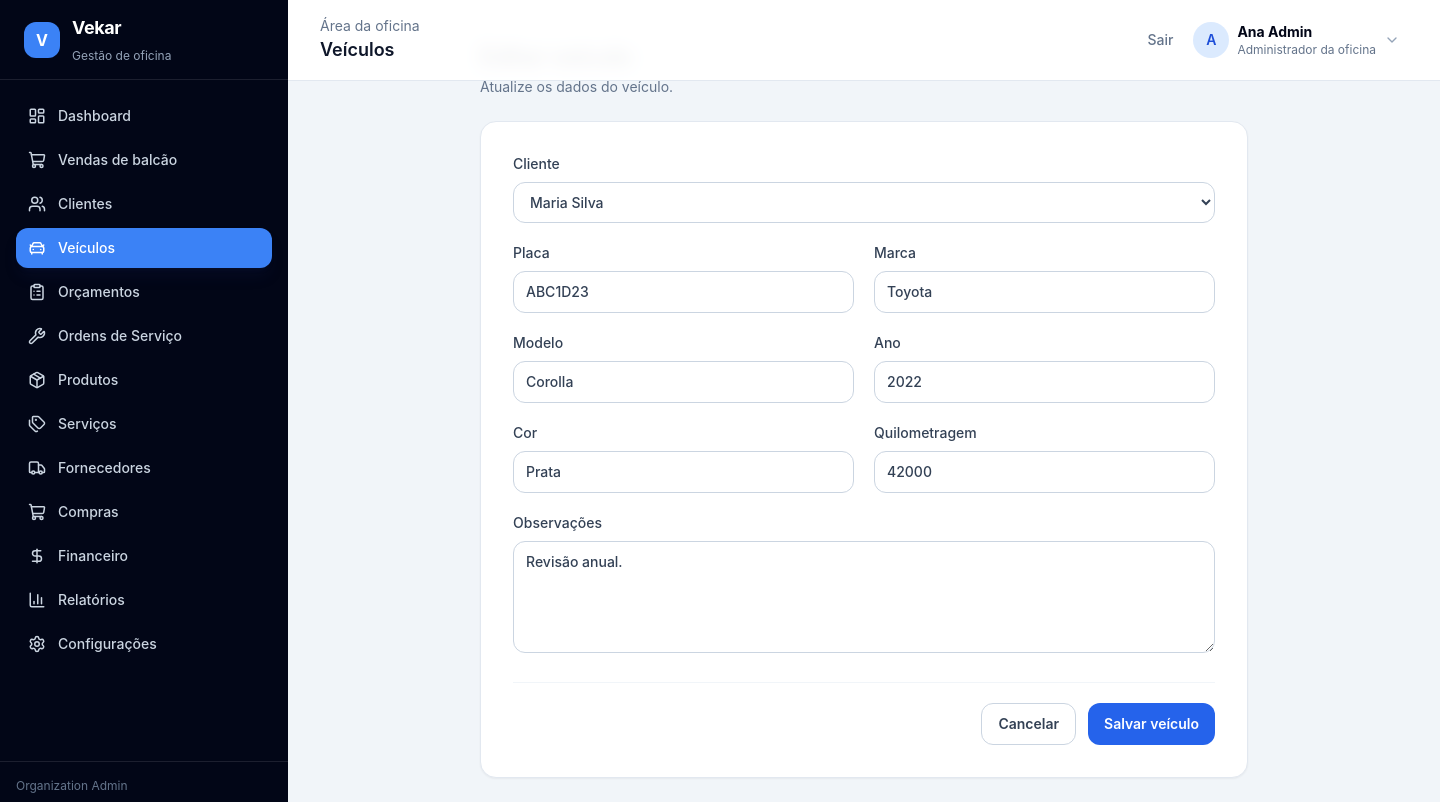
Test case: Vehicle management through the routed application › does not send an update when editing without changes
This screenshot has width=1440, height=802.
(page scrolled)
Click the button "Salvar veículo" at (1152, 724), box [1088, 703, 1215, 745]
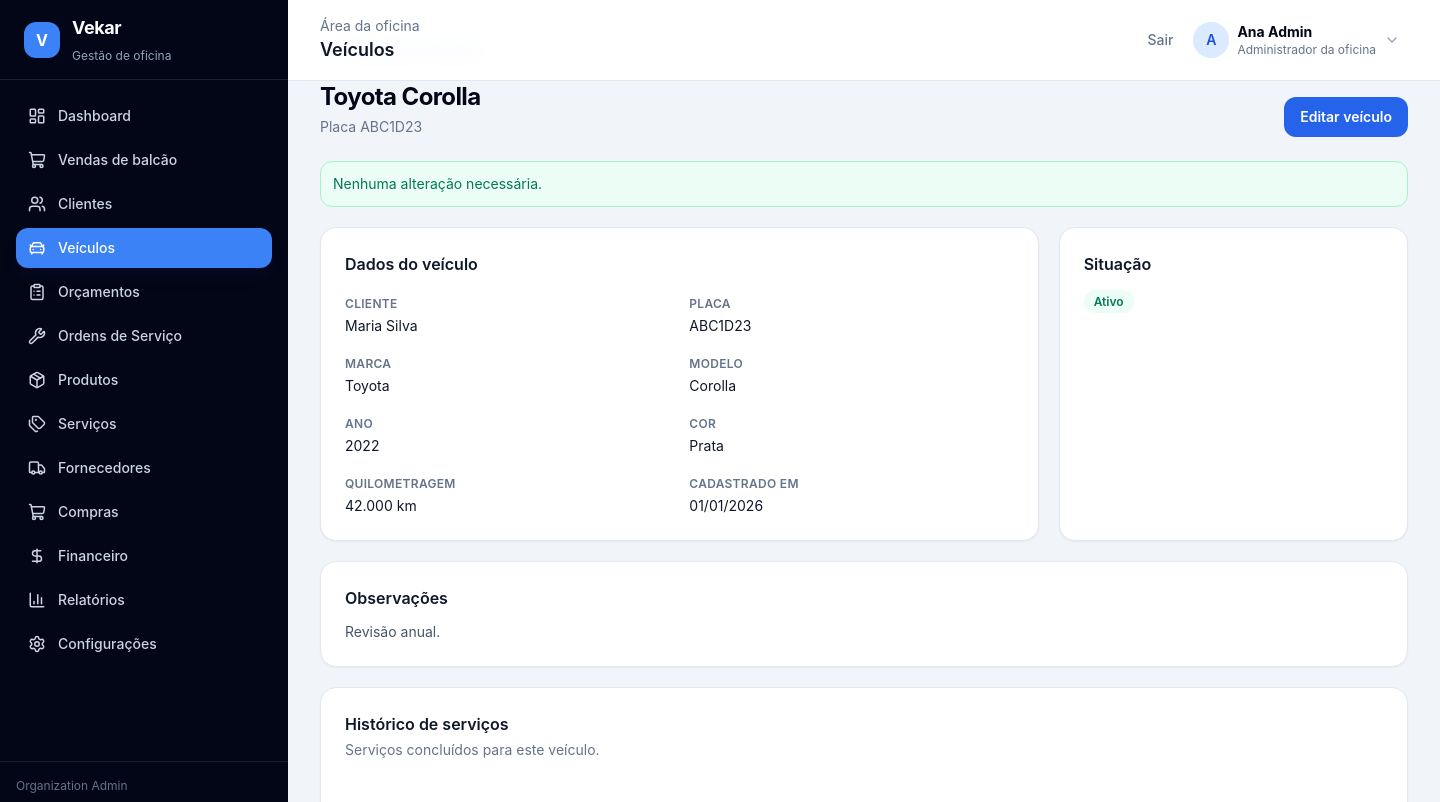
Result: the heading "Toyota Corolla" is shown at [320, 81, 481, 113]
Result: the message reads "Nenhuma alteração necessária." at [333, 175, 542, 192]
